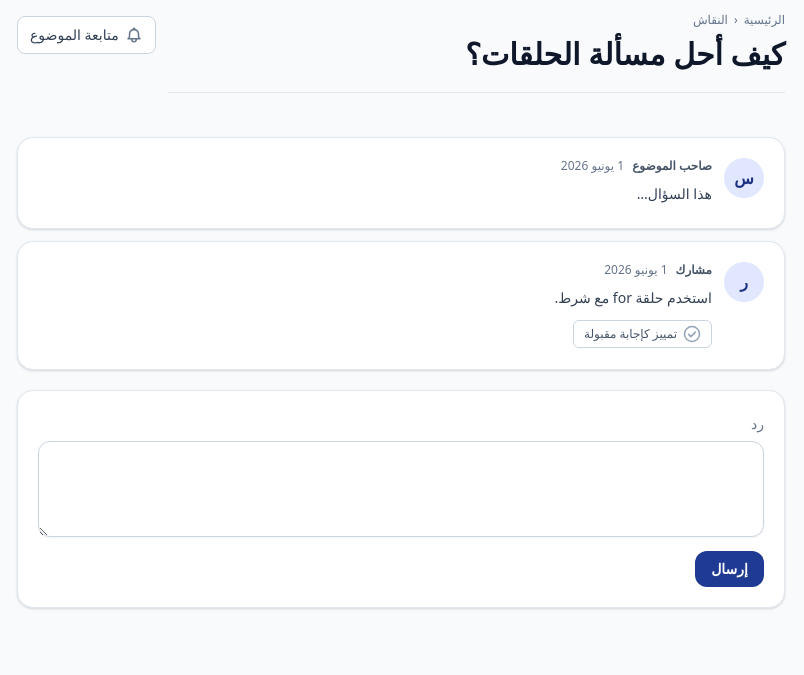
Test: ThreadPage — زرّ المتابعة (subscribe) › يعرض رسالة نجاح (role=status) بعد متابعة ناجحة
Click the button "متابعة الموضوع". click: (86,35)
box: [17, 16, 156, 54]
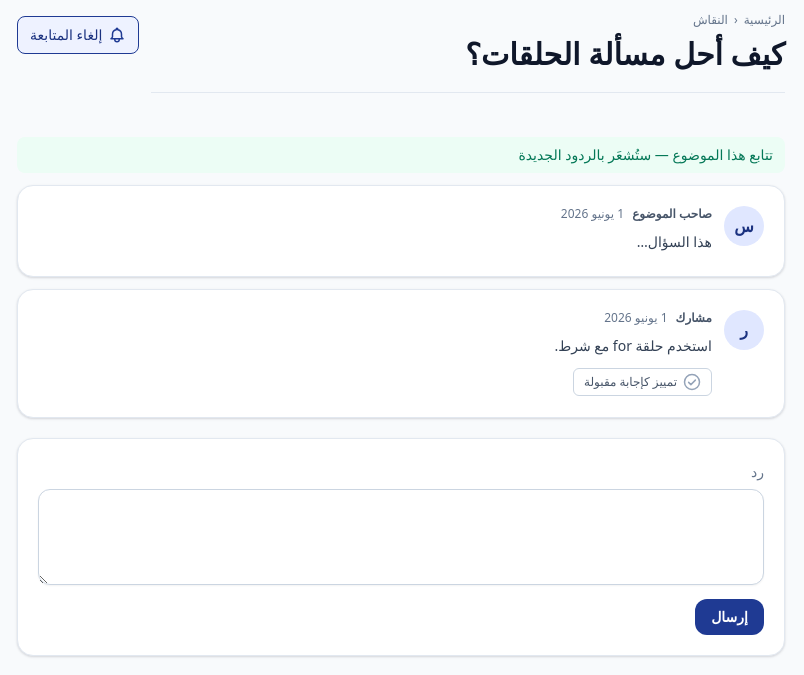
expect the message "تتابع هذا الموضوع — ستُشعَر بالردود الجديدة" is shown: met, box [17, 137, 785, 173]
